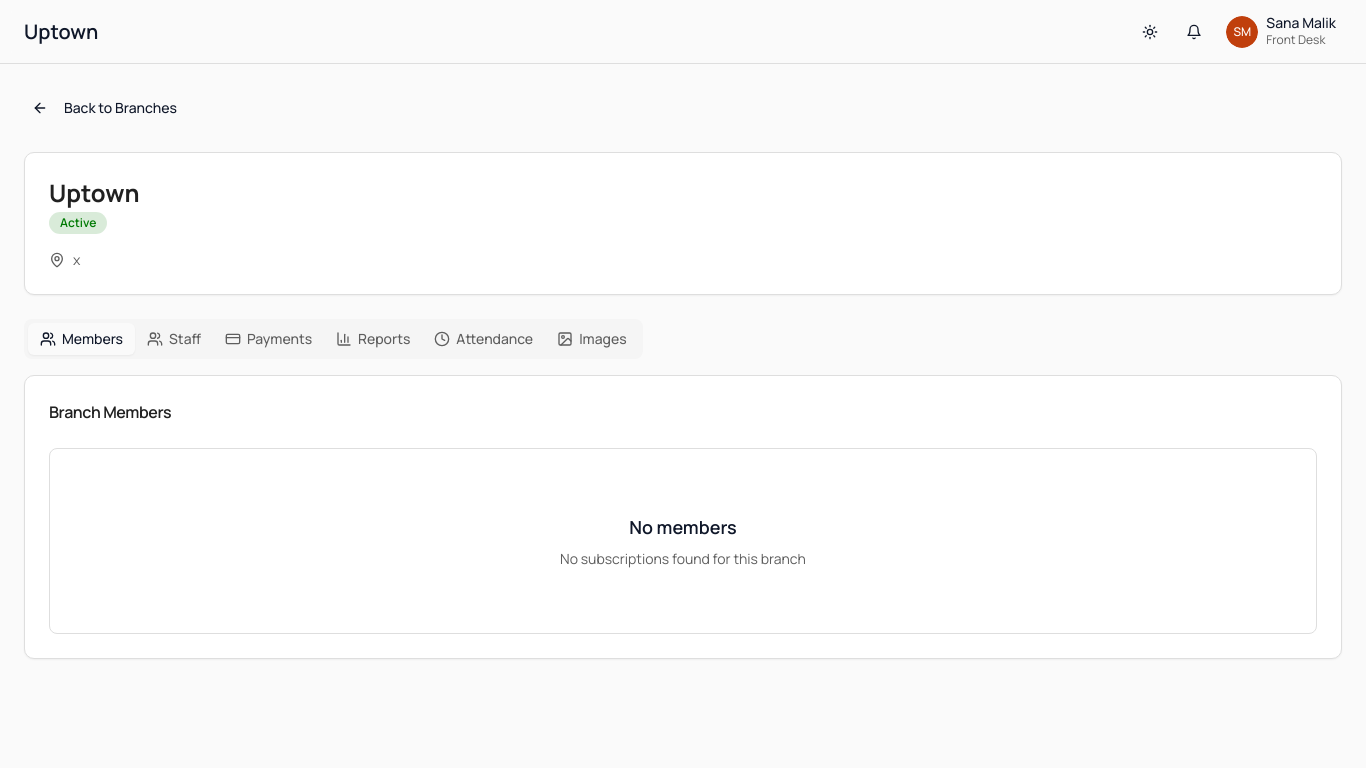
Test case: Branch detail — payment buttons follow permissions at the branch (NEW-45g) › Front Desk: collect and reject, no final approval
Press the mouse on the tab "Payments" at x=269, y=339, box [213,323,324,355]
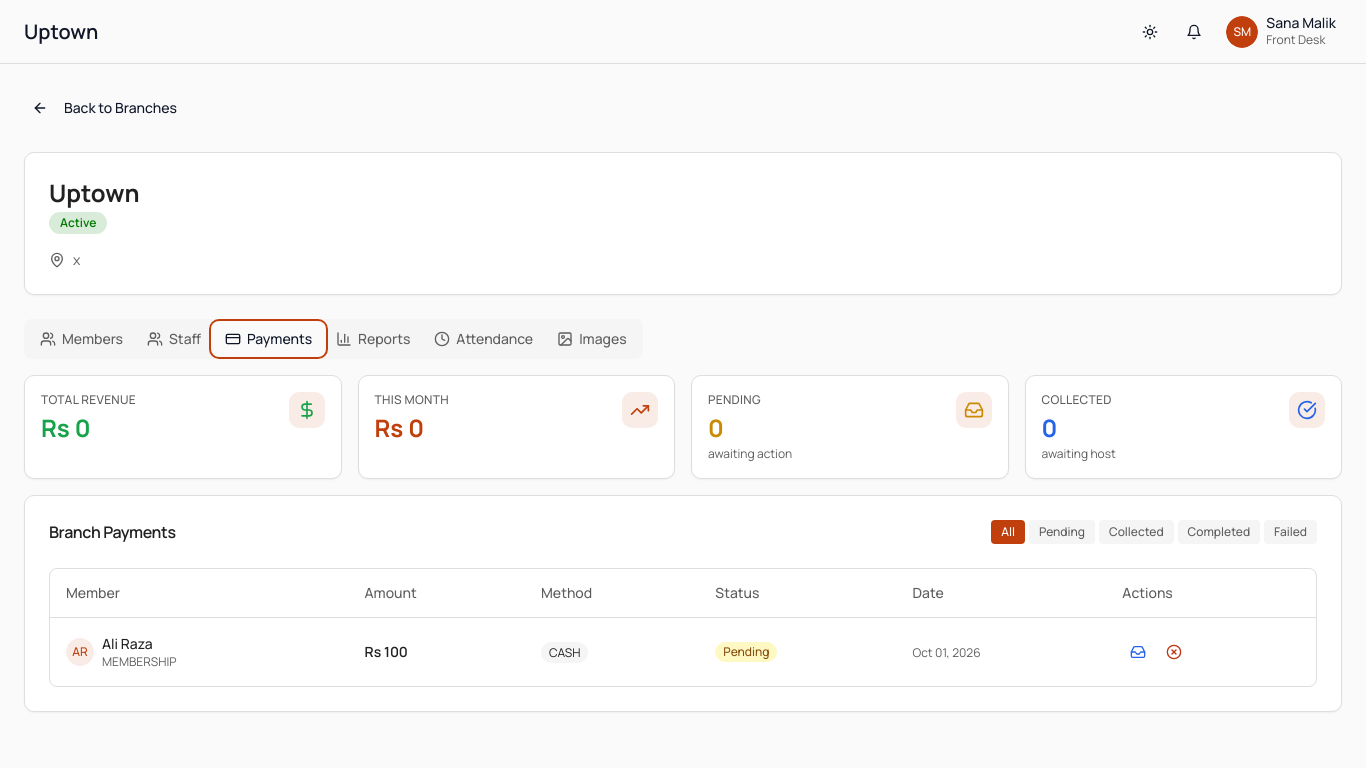
Expected: the text "Ali Raza" is shown, [102,634,152,652]
Expected: the button titled "Mark as Collected" is shown, [1122,636,1154,668]
Expected: the button titled "Reject" is shown, [1158,636,1190,668]
